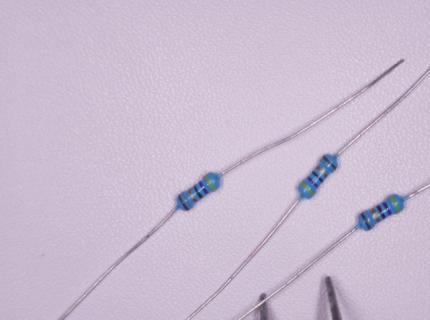Gold band: (370, 208, 381, 223), (188, 188, 199, 203), (316, 165, 328, 178)
Violet band: (381, 201, 392, 216), (306, 176, 319, 188), (198, 180, 209, 194)
Yellow band: (204, 174, 217, 191), (389, 195, 401, 213), (300, 181, 314, 196)
